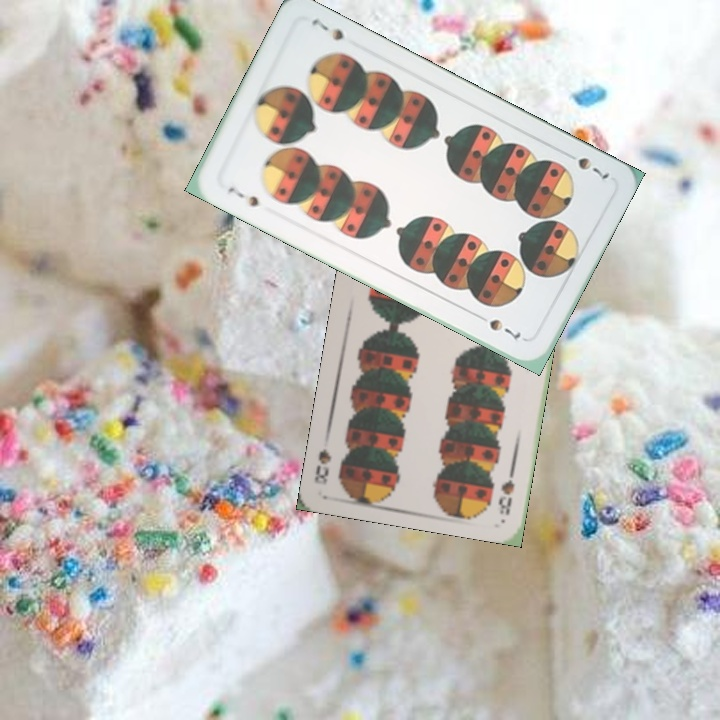S7: (559, 146, 613, 182), (224, 182, 262, 210)
S8: (494, 459, 518, 517)
